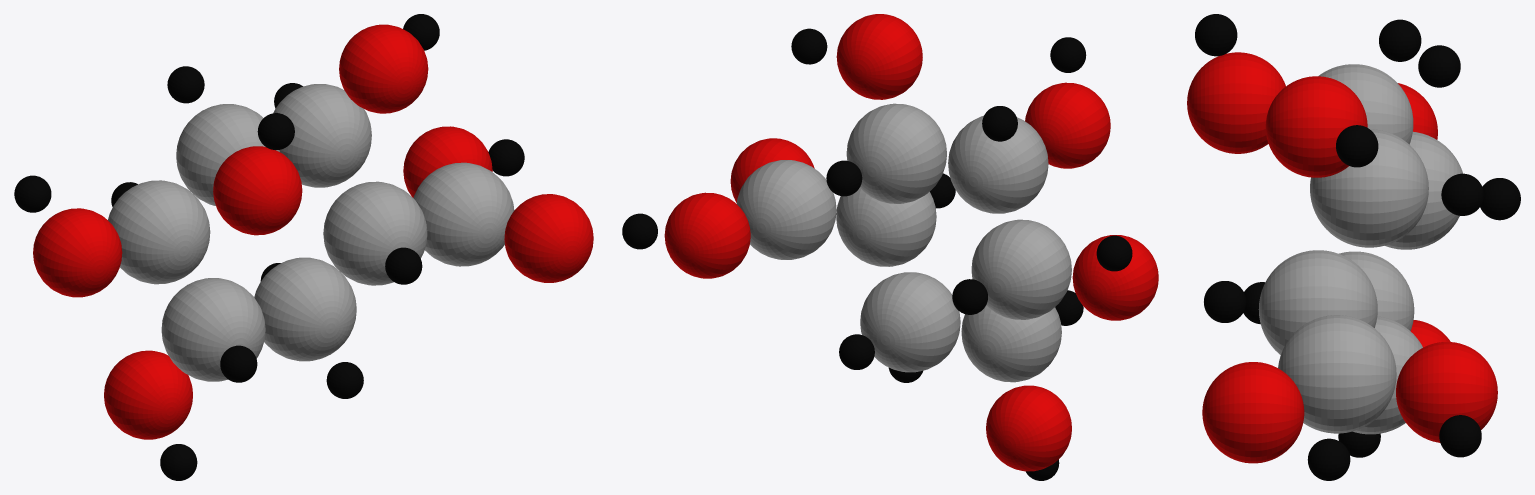
The model's file is Lactose.glb.
3 renders of one model, left to right at view 1: azimuth 30°, elevation 25°; view 2: azimuth 150°, elevation 25°; view 3: azimuth 270°, elevation 25°, orthographic. The views are drawn at different scales.
Visible parts, largest first — view 1: world; view 2: world; view 3: world.
Boxes of the visible parts, left/top/right/bottom form: world: left=14, top=14, right=593, bottom=480; world: left=622, top=14, right=1158, bottom=480; world: left=1187, top=14, right=1520, bottom=480.
Size of the model in its own units: 8 by 6.21 by 3.93.
